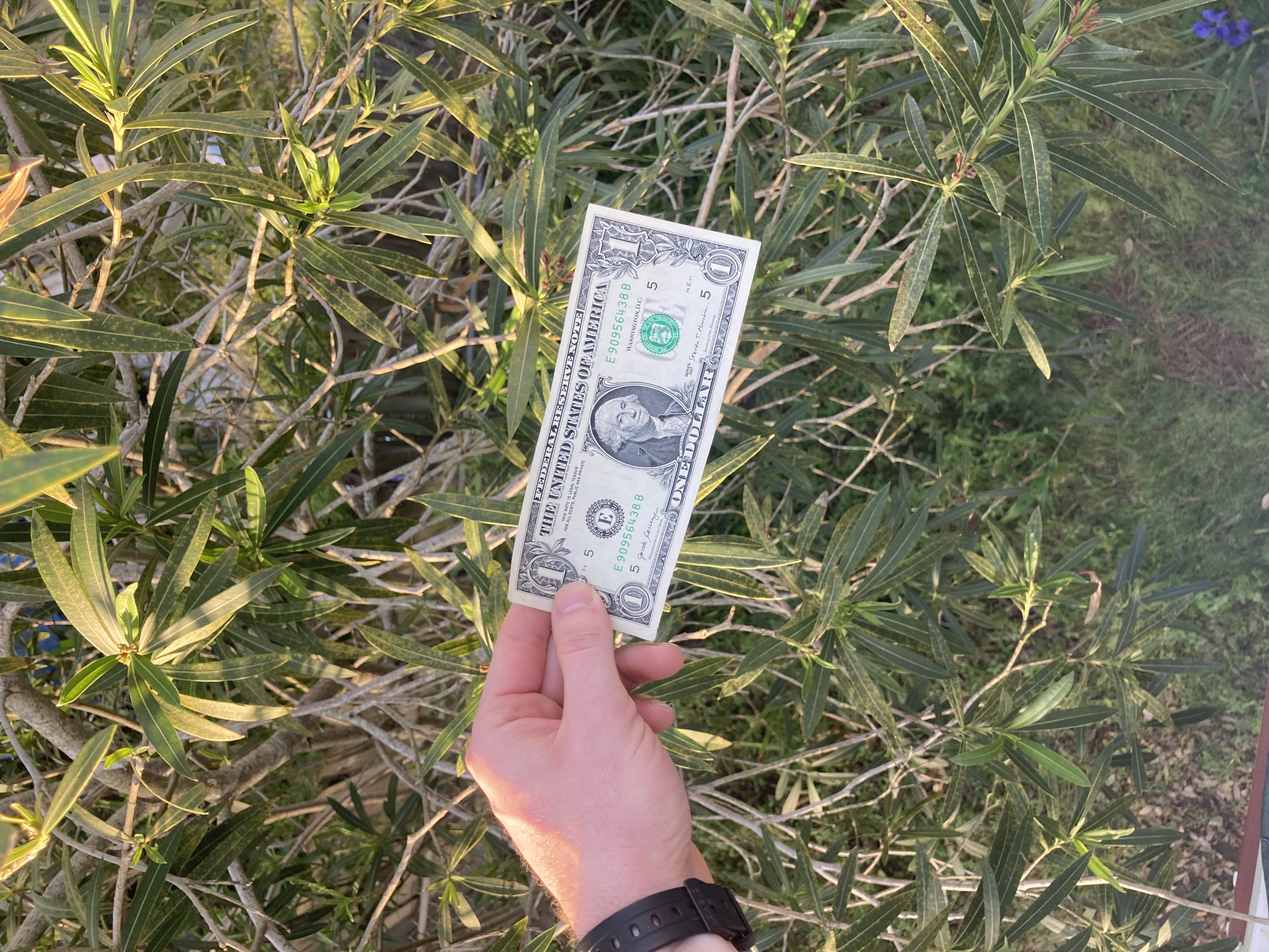one-front: (413, 381, 998, 572)
